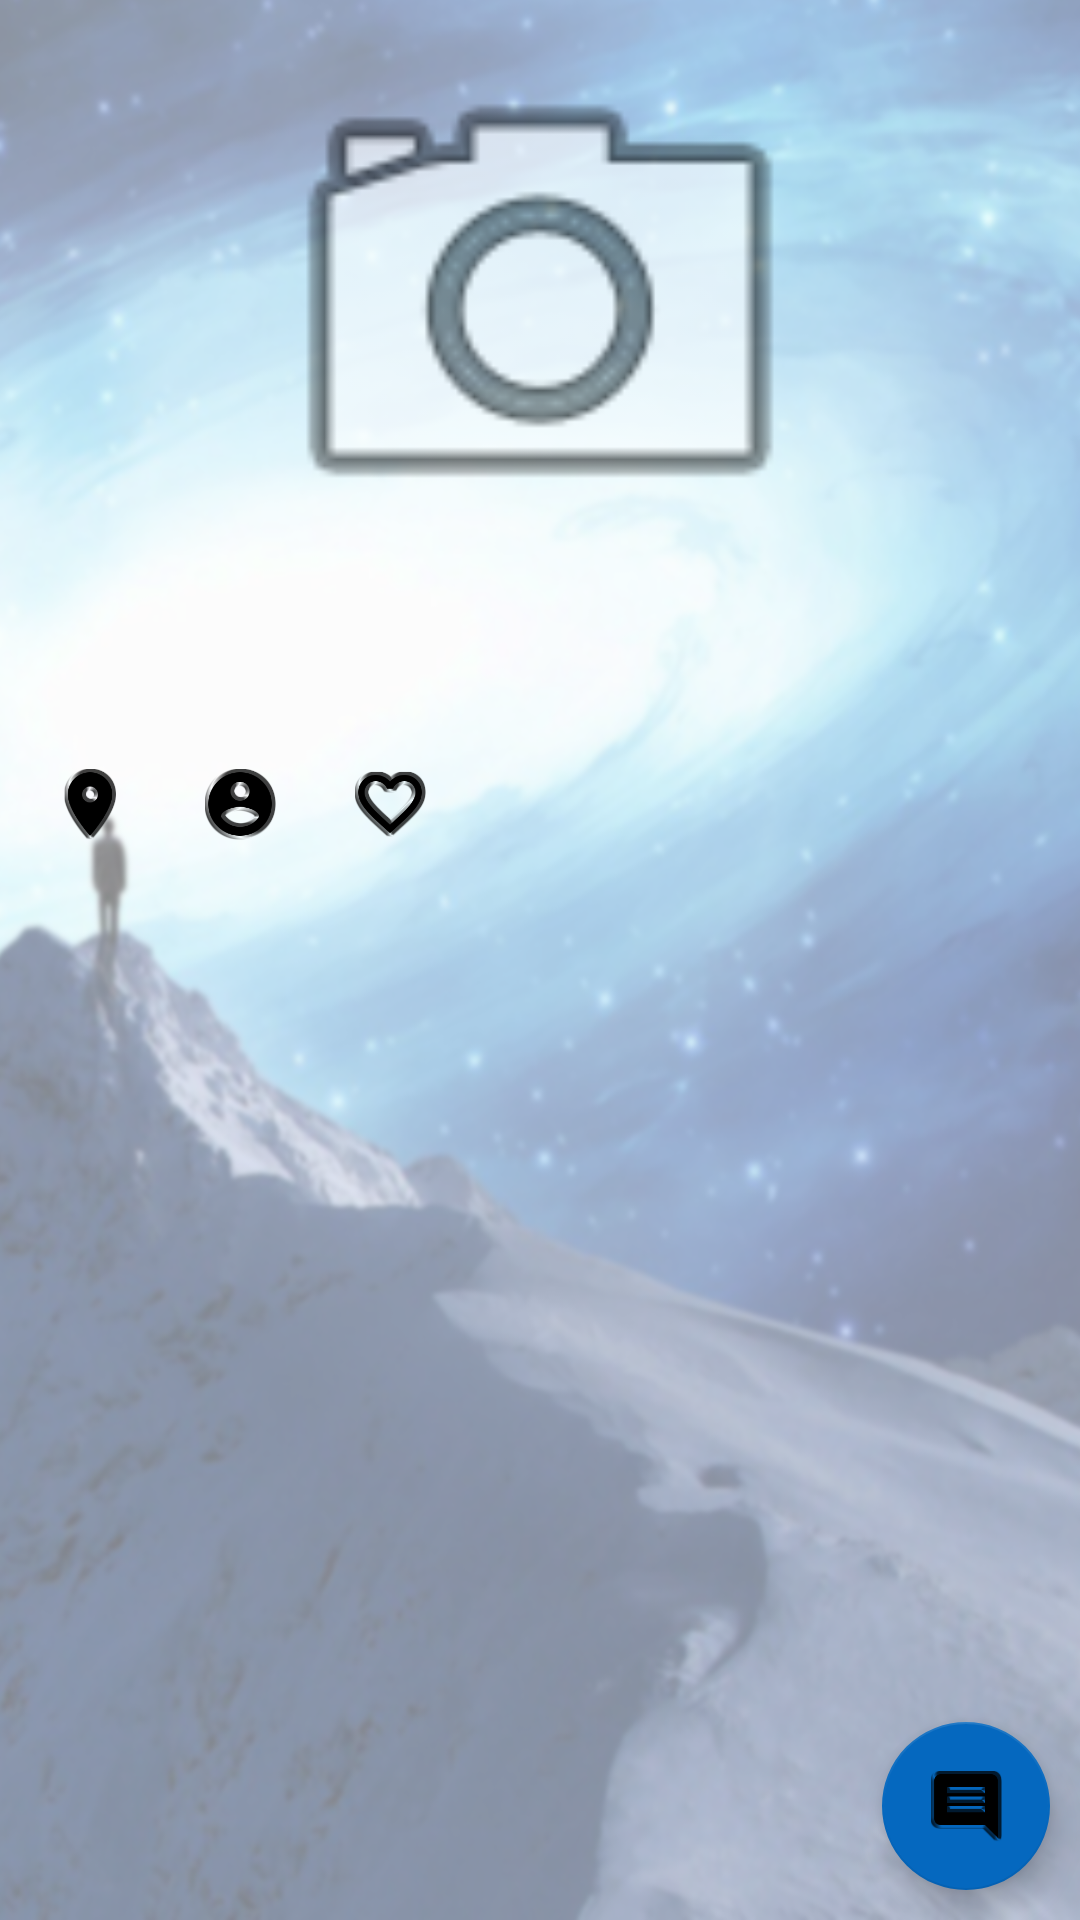

Icon click points for this 1080px×1920px phone screenshot, format [x,y]:
account circle: [240,804]
comment: [966,1806]
favorite border: [390,804]
place: [93,804]
